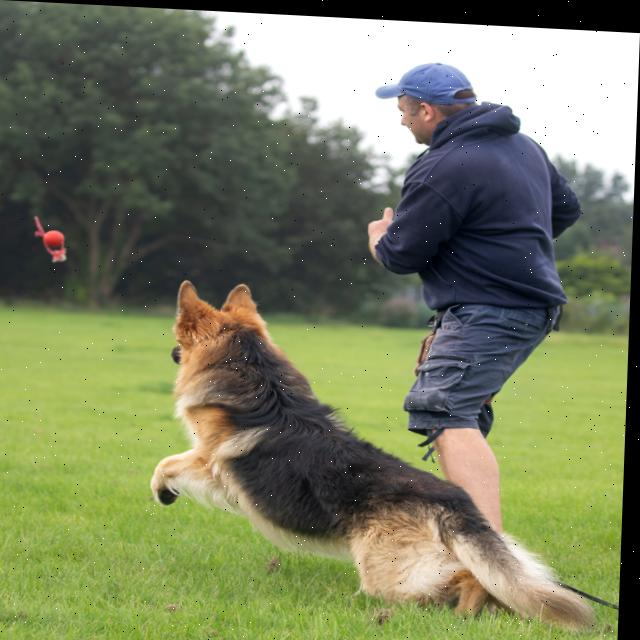GERMAN_SHEPHERD: (120, 267, 616, 640)
